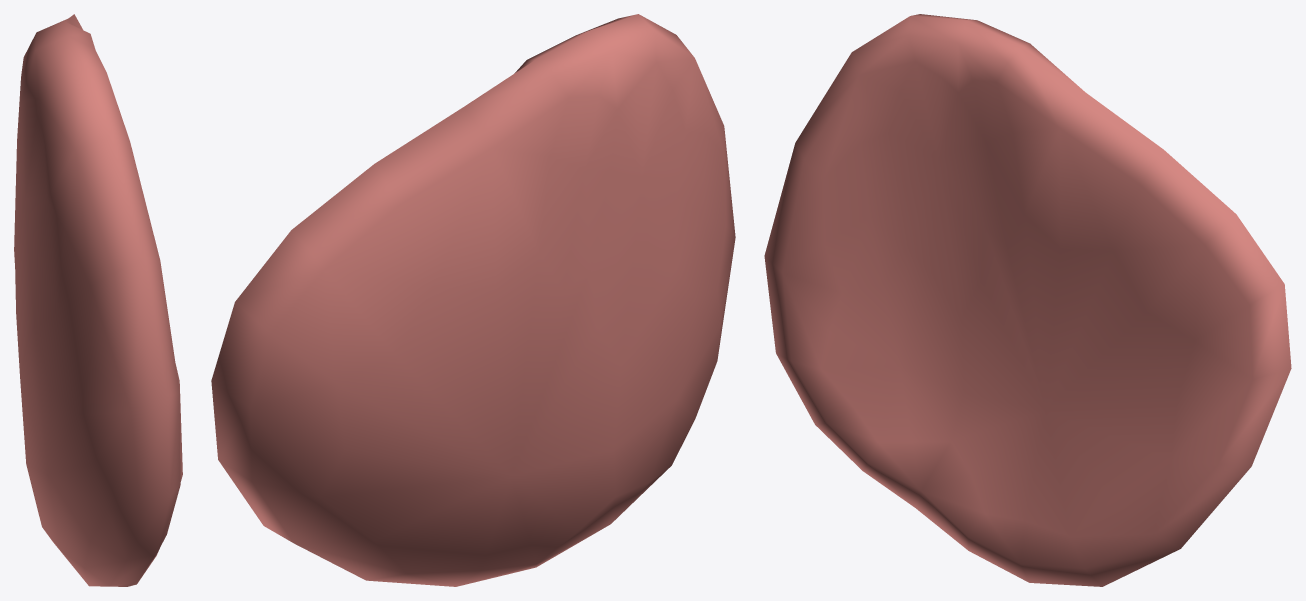
3 views of the same model, side by side, from view 1: azimuth 30°, elevation 25°; view 2: azimuth 150°, elevation 25°; view 3: azimuth 270°, elevation 25° (orthographic). The views are drawn at different scales.
Visible parts, largest first — view 1: ZA_fae44212a80df037; view 2: ZA_fae44212a80df037; view 3: ZA_fae44212a80df037.
Boxes of the visible parts, left/top/right/bottom form: ZA_fae44212a80df037: left=14, top=14, right=182, bottom=586; ZA_fae44212a80df037: left=211, top=14, right=735, bottom=586; ZA_fae44212a80df037: left=764, top=14, right=1291, bottom=586.
Size of the model in its own units: 0.00215 by 0.00401 by 0.00375.
